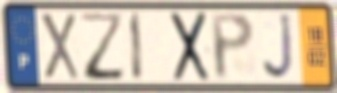I: (129, 10, 145, 84)
J: (261, 11, 297, 83)
P: (208, 11, 256, 83)
X: (169, 10, 212, 85), (37, 11, 81, 82)
Z: (77, 10, 128, 83)
